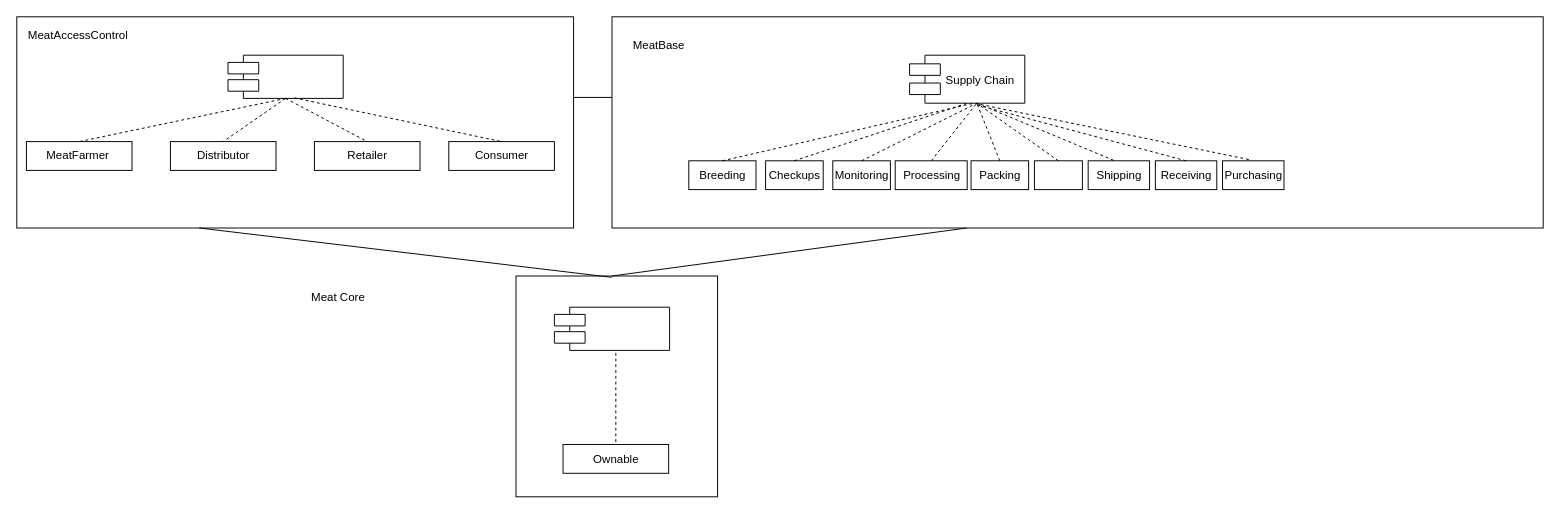
Some shapes in this 1560 by 514 pixel diagram are drawn without their labels. The shapes that lost their labels are listed below. From the top down, each one's centre as x and y in pixels, then its label:
At pixel 285 76: "Roles".
At pixel 1057 175: "Buying".
At pixel 611 328: "Value Chain".
